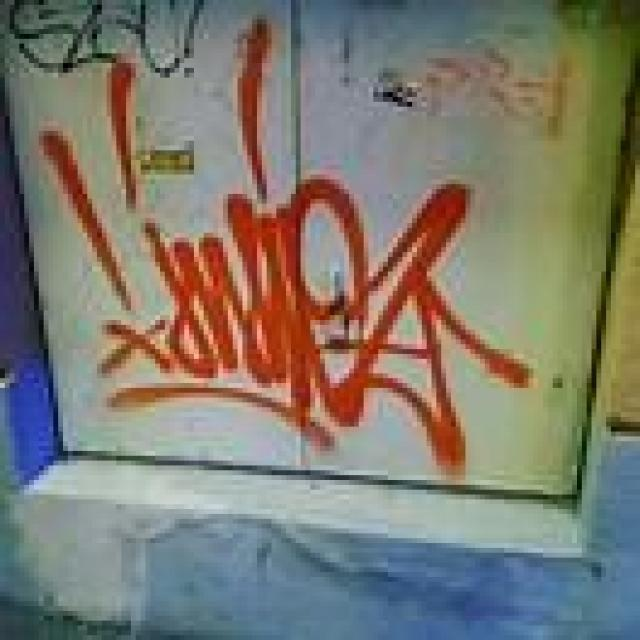nonspitting: (39, 19, 540, 477), (9, 0, 204, 82), (427, 38, 570, 138)
